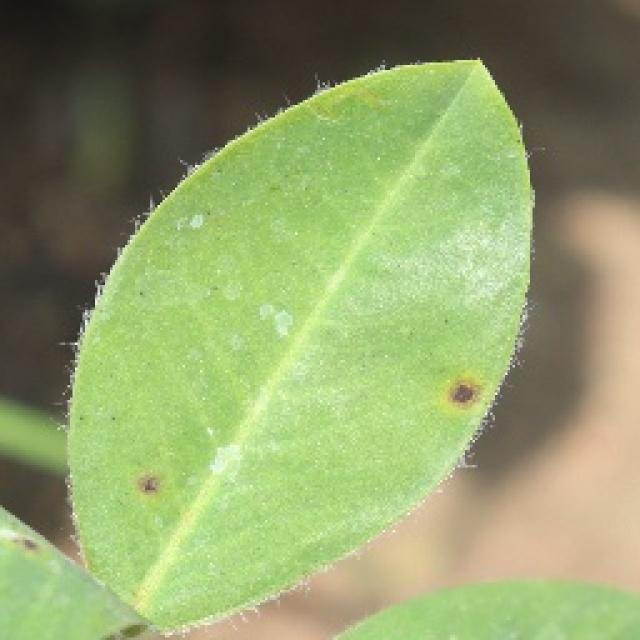Early_leaf_spot: (425, 350, 513, 452), (124, 458, 197, 528), (0, 513, 45, 565)
